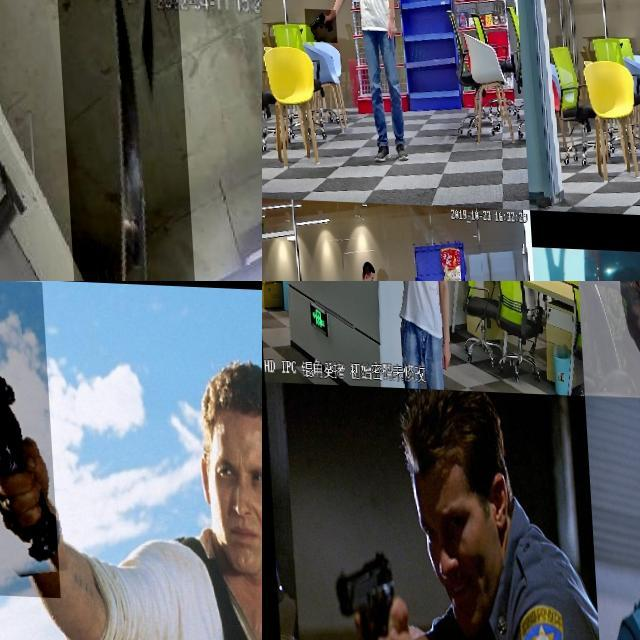-: (55, 0, 199, 281)
gun-knife-thesis - v11 Yolov5 augmented: (0, 281, 152, 595), (317, 540, 399, 640), (302, 8, 336, 42), (409, 281, 427, 310)
